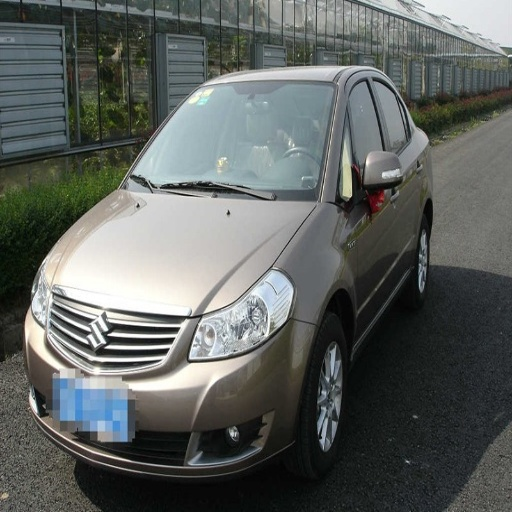front_bumper: (29, 286, 314, 478)
front_glass: (124, 87, 336, 200)
front_left_door: (338, 71, 396, 327)
